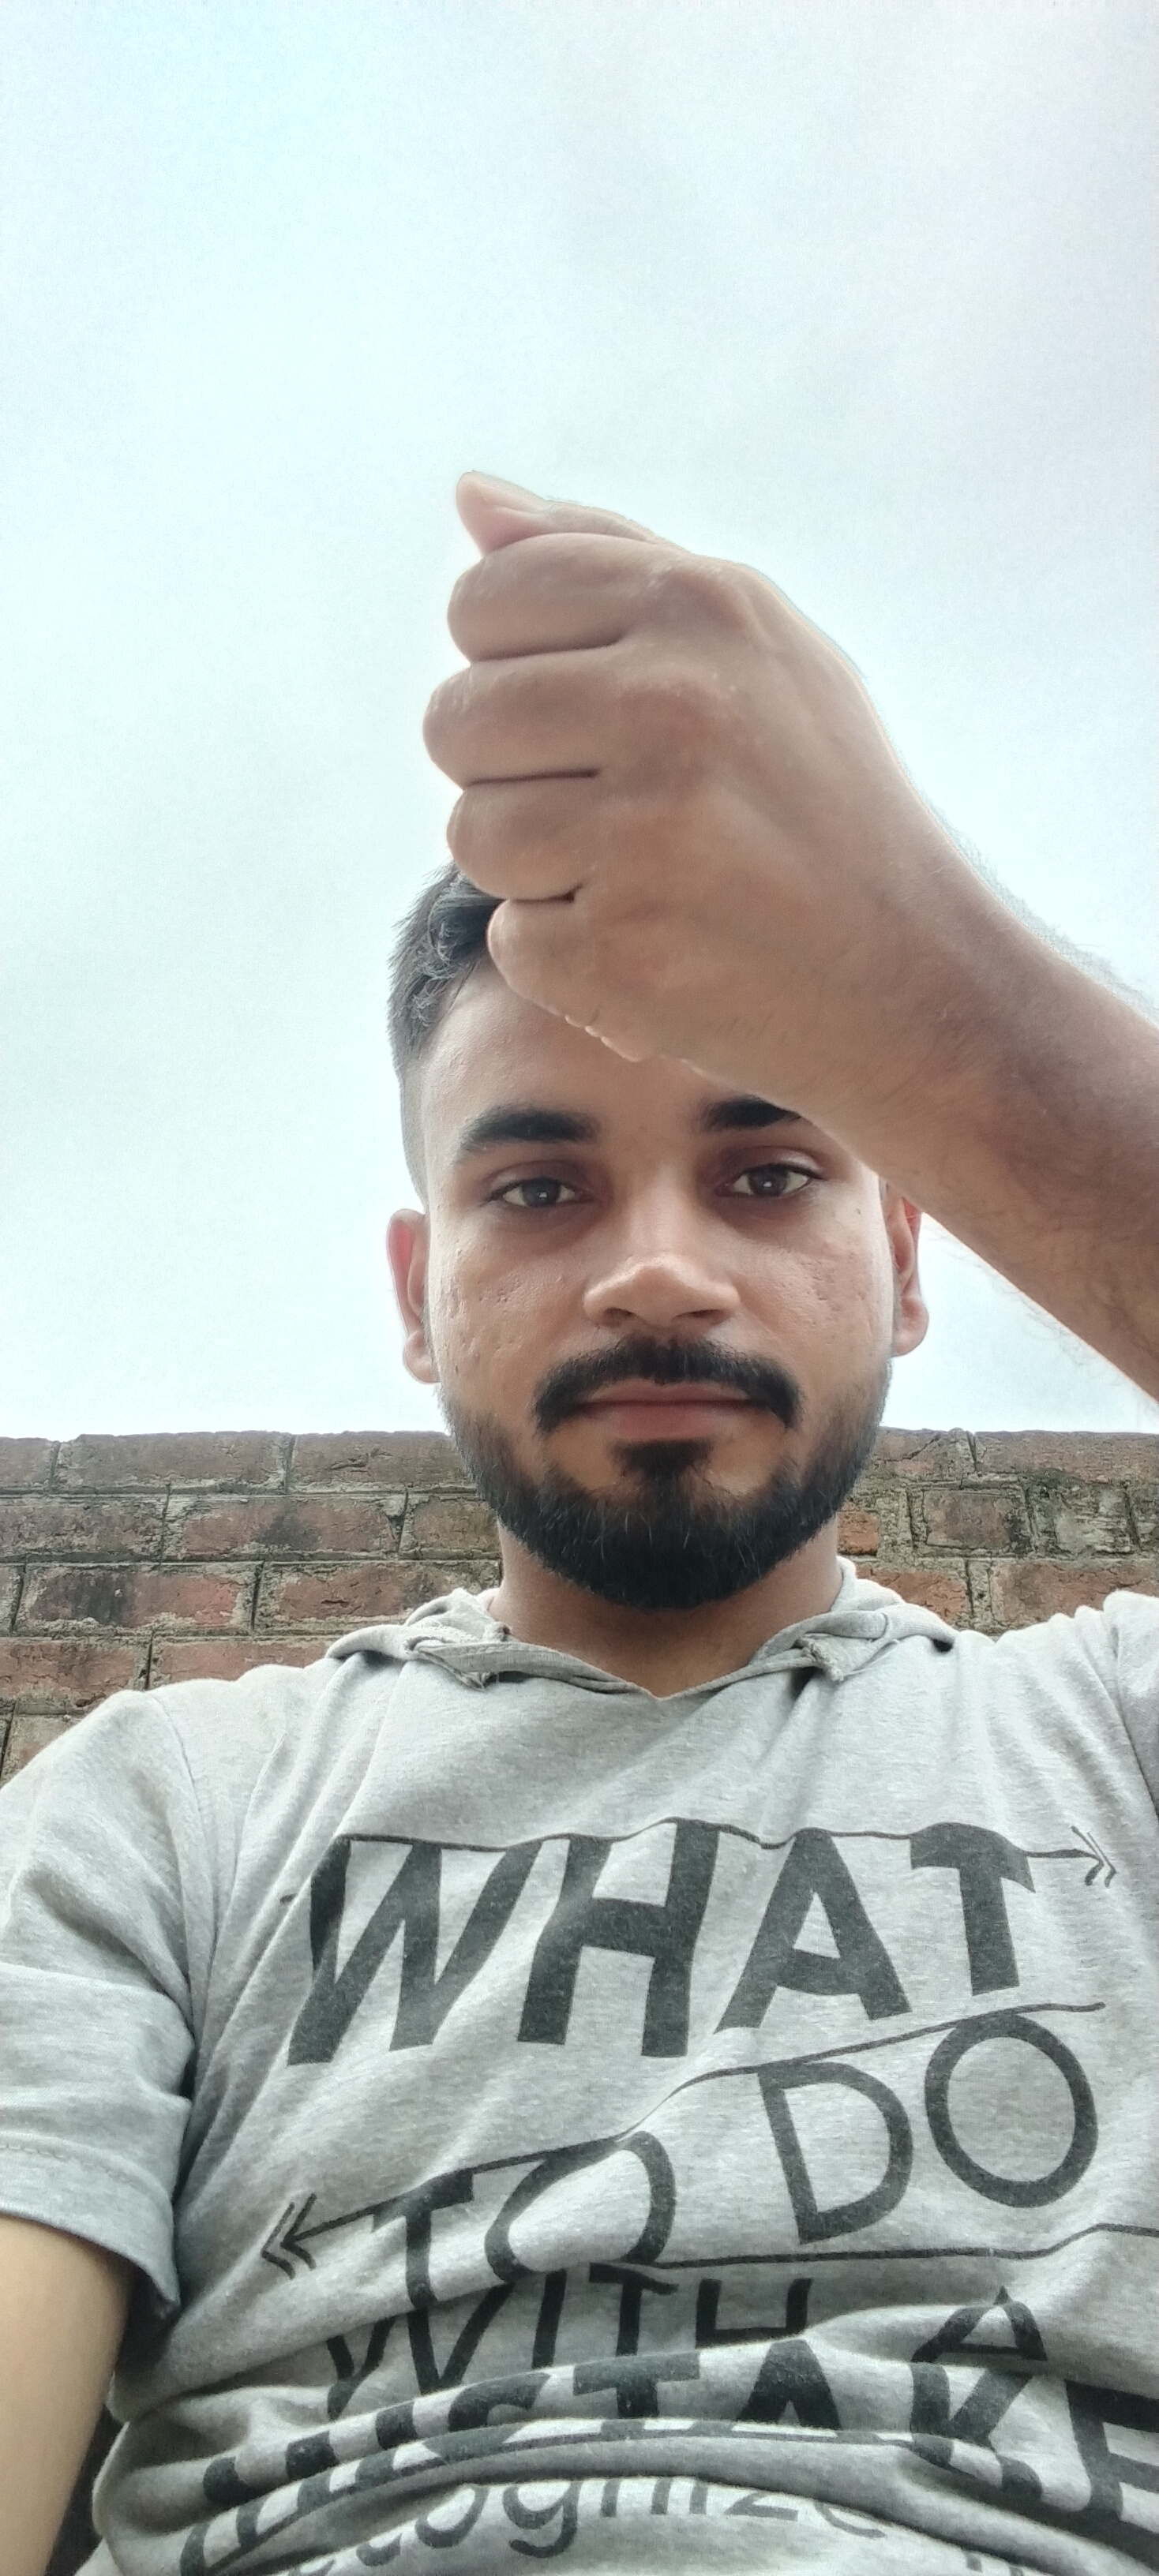Sorry: (416, 437, 912, 1099)
